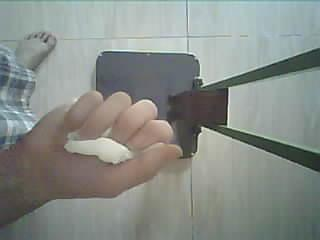paper: (64, 128, 165, 164)
